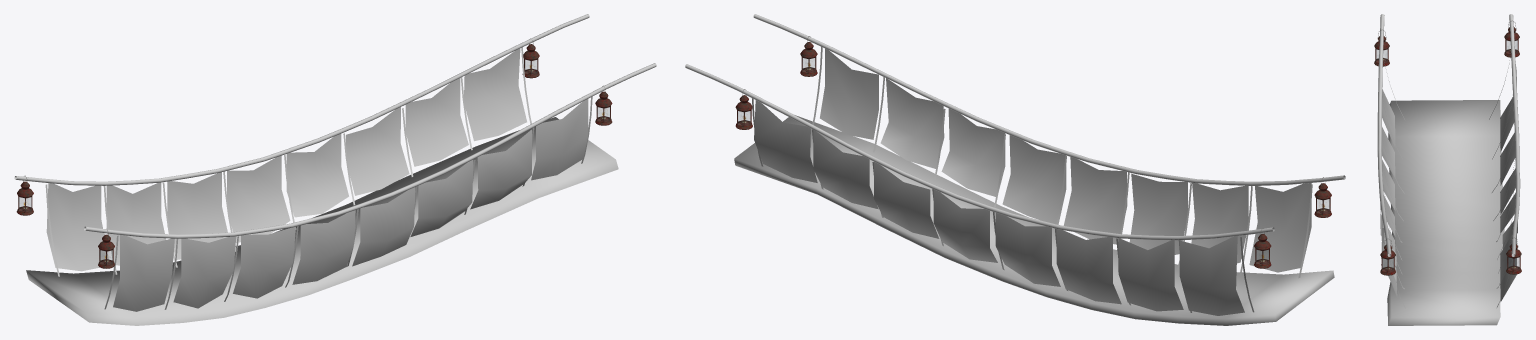
The picture shows the model from 3 angles, left to right: view 1: azimuth 30°, elevation 25°; view 2: azimuth 150°, elevation 25°; view 3: azimuth 270°, elevation 25°; orthographic projection. The views are drawn at different scales.
Visible parts, largest first — view 1: bridge, light (×4); view 2: bridge, light (×4); view 3: bridge, light (×4).
Boxes of the visible parts, box(x1,y1,x2,y2) form: bridge: box(14, 14, 656, 325); light (×4): box(16, 38, 612, 268); bridge: box(685, 14, 1345, 325); light (×4): box(735, 36, 1331, 268); bridge: box(1377, 14, 1520, 325); light (×4): box(1374, 20, 1521, 275).
Bounding box in the file's own units: 2 × 0.5016 × 0.4809.
